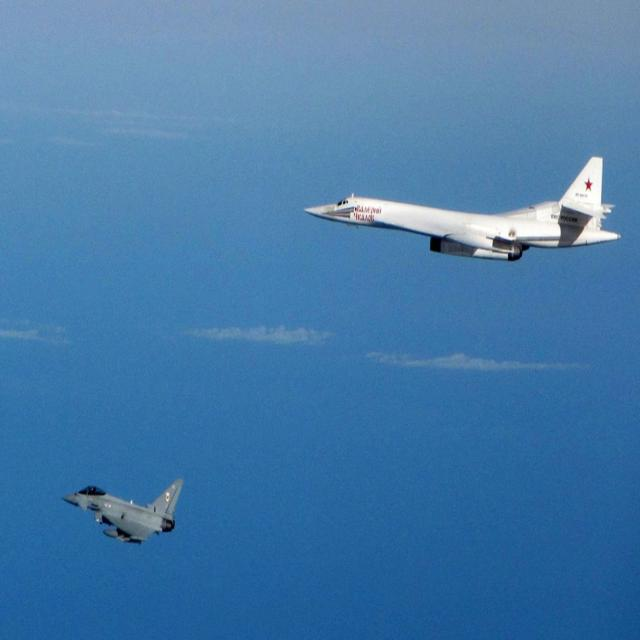MIL_Plane: (304, 156, 620, 260), (61, 462, 184, 562)
